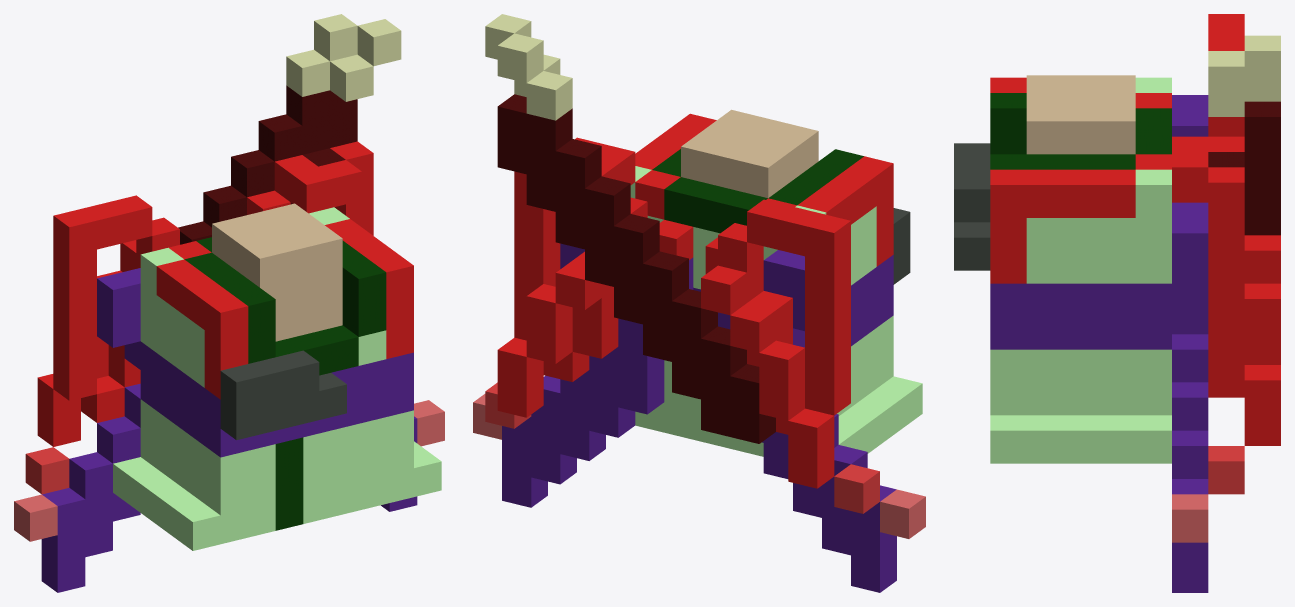
File: zunko_Body.obj
3 renders of one model, left to right at view 1: azimuth 30°, elevation 25°; view 2: azimuth 150°, elevation 25°; view 3: azimuth 270°, elevation 25°, orthographic. The views are drawn at different scales.
Visible parts, largest first — view 1: zunko_Body; view 2: zunko_Body; view 3: zunko_Body.
Part boxes in pixels (x1=…): zunko_Body: x1=14, y1=14, x2=444, y2=592; zunko_Body: x1=473, y1=14, x2=925, y2=592; zunko_Body: x1=954, y1=14, x2=1280, y2=592.
Bounding box in the file's own units: 15 × 16 × 9.
Materials: 1 (1 with a texture image).
